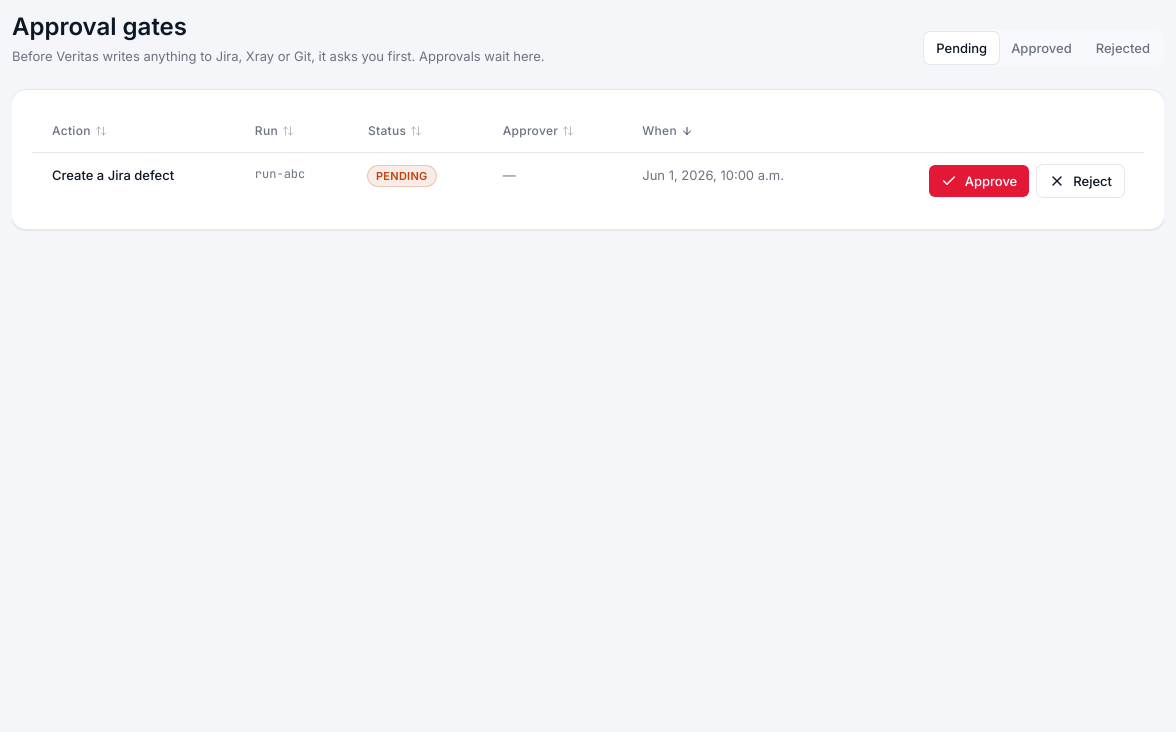
Test: Approval gates › surfaces an error toast when approving fails
Expected: the text "Create a Jira defect" is shown, [32,152,235,209]
Click the button "Approve": (979, 181) [929,165,1029,197]
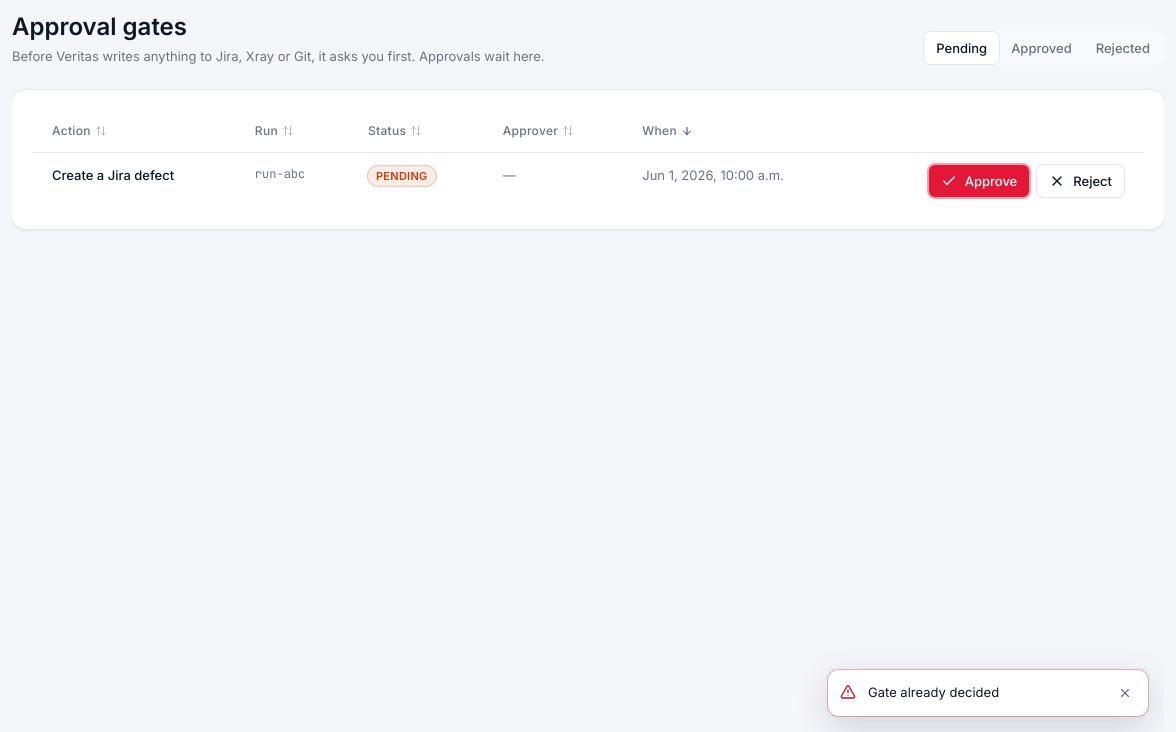
Expected: the text "Gate already decided" is shown, [868,684,999,700]
